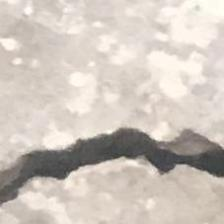Crack: (0, 118, 224, 224)
